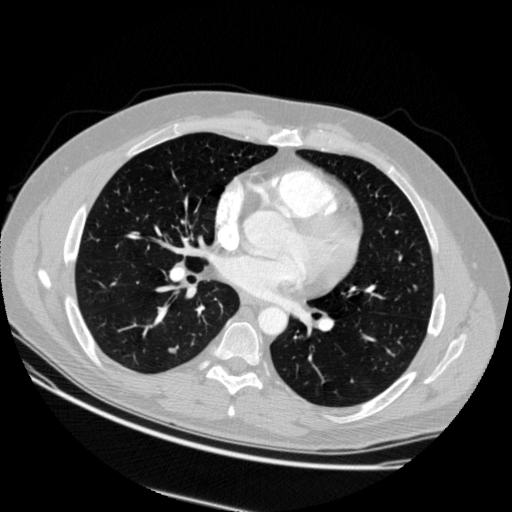nodule: (166, 345, 179, 358)
